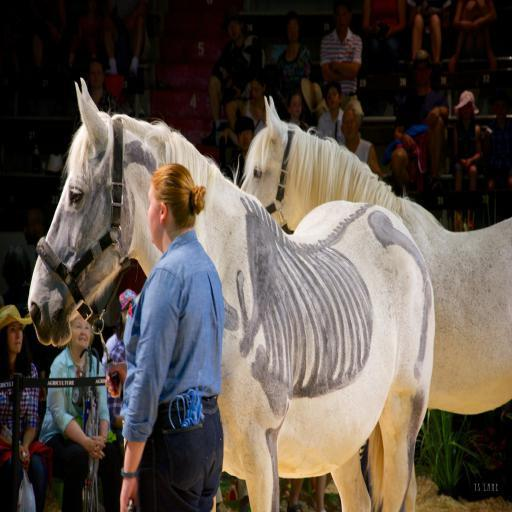horse: (24, 74, 436, 512), (237, 91, 512, 512)
